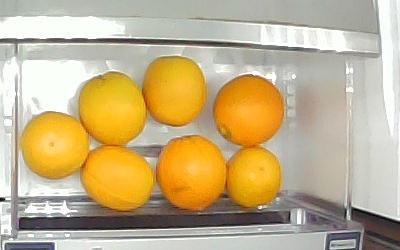orange: (214, 74, 285, 148), (157, 137, 225, 211), (79, 71, 145, 147), (80, 146, 153, 212), (21, 110, 89, 178), (142, 56, 206, 128), (223, 149, 281, 208)
